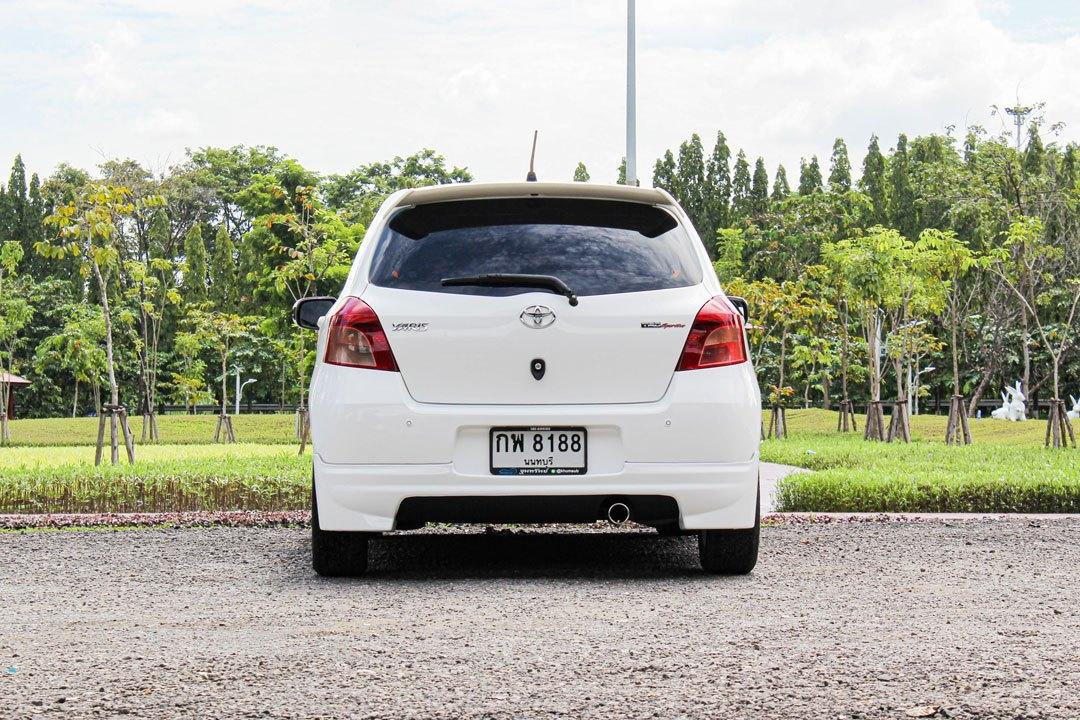license-plate: (485, 423, 593, 486)
